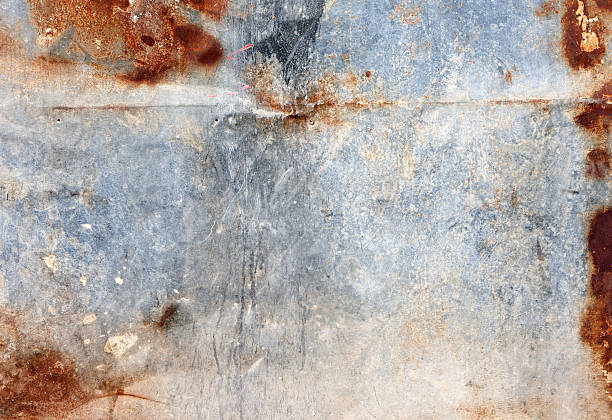rust: (532, 4, 612, 377), (11, 3, 241, 88), (3, 325, 125, 420), (258, 86, 349, 130)
